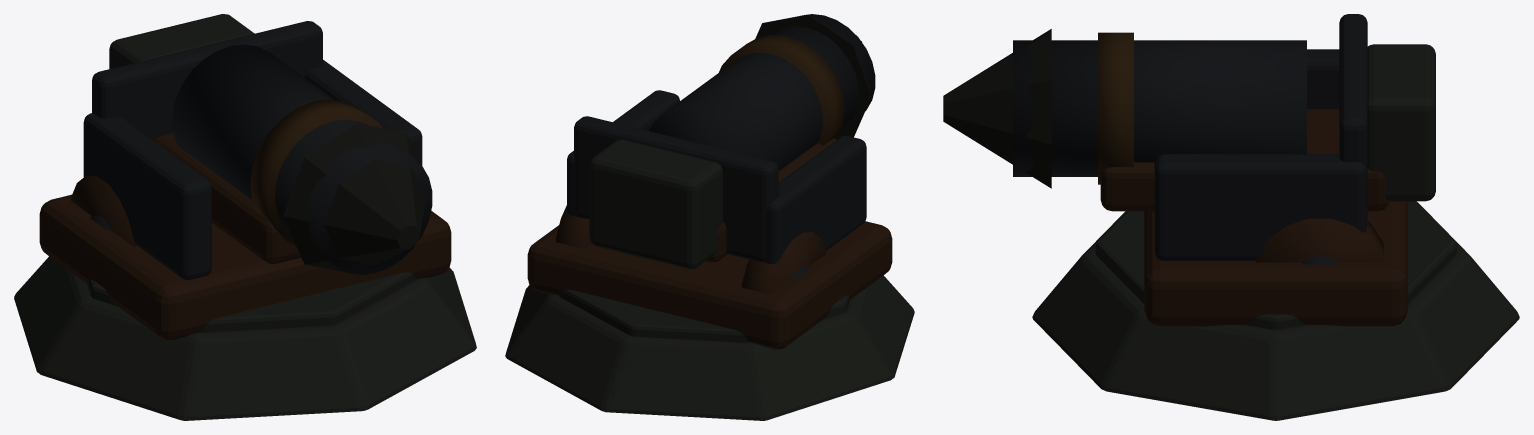
Rendered from TowerDestroy2.obj.
3 views of the same model, side by side, from view 1: azimuth 30°, elevation 25°; view 2: azimuth 150°, elevation 25°; view 3: azimuth 270°, elevation 25° (orthographic). The views are drawn at different scales.
Parts seen in each view (by area): view 1: rough_stone_foundation_lower_course, reinforced_oak_sled, black_ram_barrel, stone_breaker_head, iron_ram_cheek, iron_ram_mantle, rough_stone_foundation_upper_course, bronze_ram_band, oak_ram_bed, stone_counterweight, iron_ram_cheek.001, heavy_wood_wheel; view 2: rough_stone_foundation_lower_course, reinforced_oak_sled, black_ram_barrel, stone_counterweight, iron_ram_mantle, iron_ram_cheek, rough_stone_foundation_upper_course, bronze_ram_band, heavy_wood_wheel, stone_breaker_head, iron_ram_cheek.001, heavy_wood_wheel.001 (+1 smaller); view 3: rough_stone_foundation_lower_course, black_ram_barrel, iron_ram_cheek.001, reinforced_oak_sled, stone_counterweight, stone_breaker_head, rough_stone_foundation_upper_course, bronze_ram_band, oak_ram_bed, heavy_wood_wheel.001, iron_ram_mantle, iron_ram_cheek.
Part boxes in pixels (left/top/right/bottom): rough_stone_foundation_lower_course: left=14, top=256, right=476, bottom=420; reinforced_oak_sled: left=39, top=194, right=451, bottom=339; black_ram_barrel: left=172, top=44, right=432, bottom=274; stone_breaker_head: left=283, top=123, right=425, bottom=274; iron_ram_cheek: left=83, top=113, right=211, bottom=280; iron_ram_mantle: left=92, top=21, right=322, bottom=140; rough_stone_foundation_upper_course: left=87, top=272, right=416, bottom=332; bronze_ram_band: left=250, top=99, right=382, bottom=245; oak_ram_bed: left=154, top=133, right=301, bottom=263; stone_counterweight: left=109, top=14, right=254, bottom=68; iron_ram_cheek.001: left=304, top=60, right=422, bottom=165; heavy_wood_wheel: left=71, top=175, right=136, bottom=246; rough_stone_foundation_lower_course: left=505, top=275, right=914, bottom=420; reinforced_oak_sled: left=527, top=221, right=892, bottom=349; black_ram_barrel: left=649, top=14, right=875, bottom=170; stone_counterweight: left=589, top=139, right=722, bottom=269; iron_ram_mantle: left=574, top=116, right=778, bottom=261; iron_ram_cheek: left=756, top=135, right=866, bottom=263; rough_stone_foundation_upper_course: left=558, top=289, right=849, bottom=342; bronze_ram_band: left=719, top=34, right=844, bottom=145; heavy_wood_wheel: left=741, top=232, right=826, bottom=294; stone_breaker_head: left=755, top=14, right=871, bottom=139; iron_ram_cheek.001: left=567, top=90, right=679, bottom=218; heavy_wood_wheel.001: left=555, top=205, right=591, bottom=248; rough_stone_foundation_lower_course: left=1032, top=201, right=1519, bottom=420; black_ram_barrel: left=1013, top=40, right=1306, bottom=176; iron_ram_cheek.001: left=1154, top=154, right=1366, bottom=260; reinforced_oak_sled: left=1144, top=201, right=1407, bottom=326; stone_counterweight: left=1367, top=44, right=1435, bottom=201; stone_breaker_head: left=943, top=29, right=1051, bottom=188; rough_stone_foundation_upper_course: left=1095, top=201, right=1456, bottom=329; bronze_ram_band: left=1098, top=32, right=1133, bottom=184; oak_ram_bed: left=1100, top=109, right=1388, bottom=211; heavy_wood_wheel.001: left=1256, top=218, right=1383, bottom=262; iron_ram_mantle: left=1339, top=14, right=1367, bottom=226; iron_ram_cheek: left=1307, top=49, right=1339, bottom=108.
Bounding box in the file's own units: 1.89 × 1.23 × 2.23.
